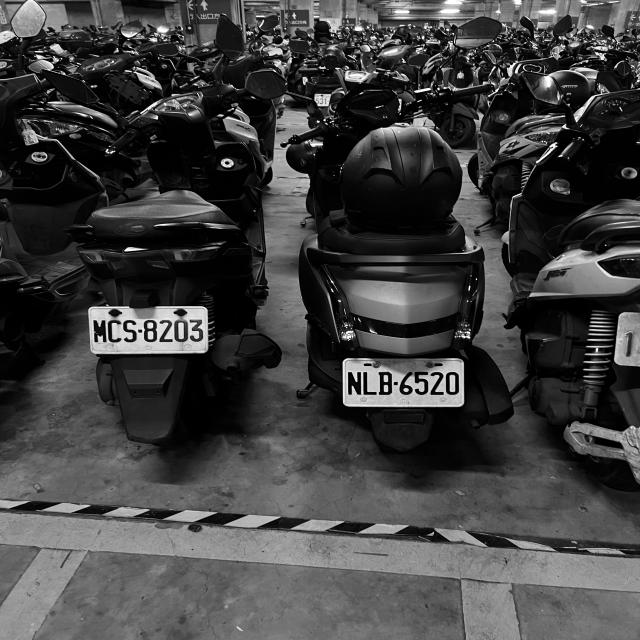-: (137, 328, 143, 334), (393, 380, 398, 386)
0: (445, 371, 460, 396), (174, 318, 188, 342)
1: (622, 330, 636, 360), (324, 98, 327, 105)
2: (158, 318, 174, 342), (429, 371, 445, 395)
3: (189, 318, 204, 342), (320, 98, 324, 105)
5: (413, 371, 429, 395), (315, 98, 320, 104)
6: (399, 371, 413, 395)
8: (142, 320, 158, 342)
B: (377, 371, 393, 395)
C: (107, 319, 122, 343)
L: (362, 371, 377, 395)
M: (92, 319, 107, 343)
N: (346, 371, 362, 395)
S: (122, 319, 137, 343)
plate: (91, 306, 207, 353), (344, 360, 464, 405)
